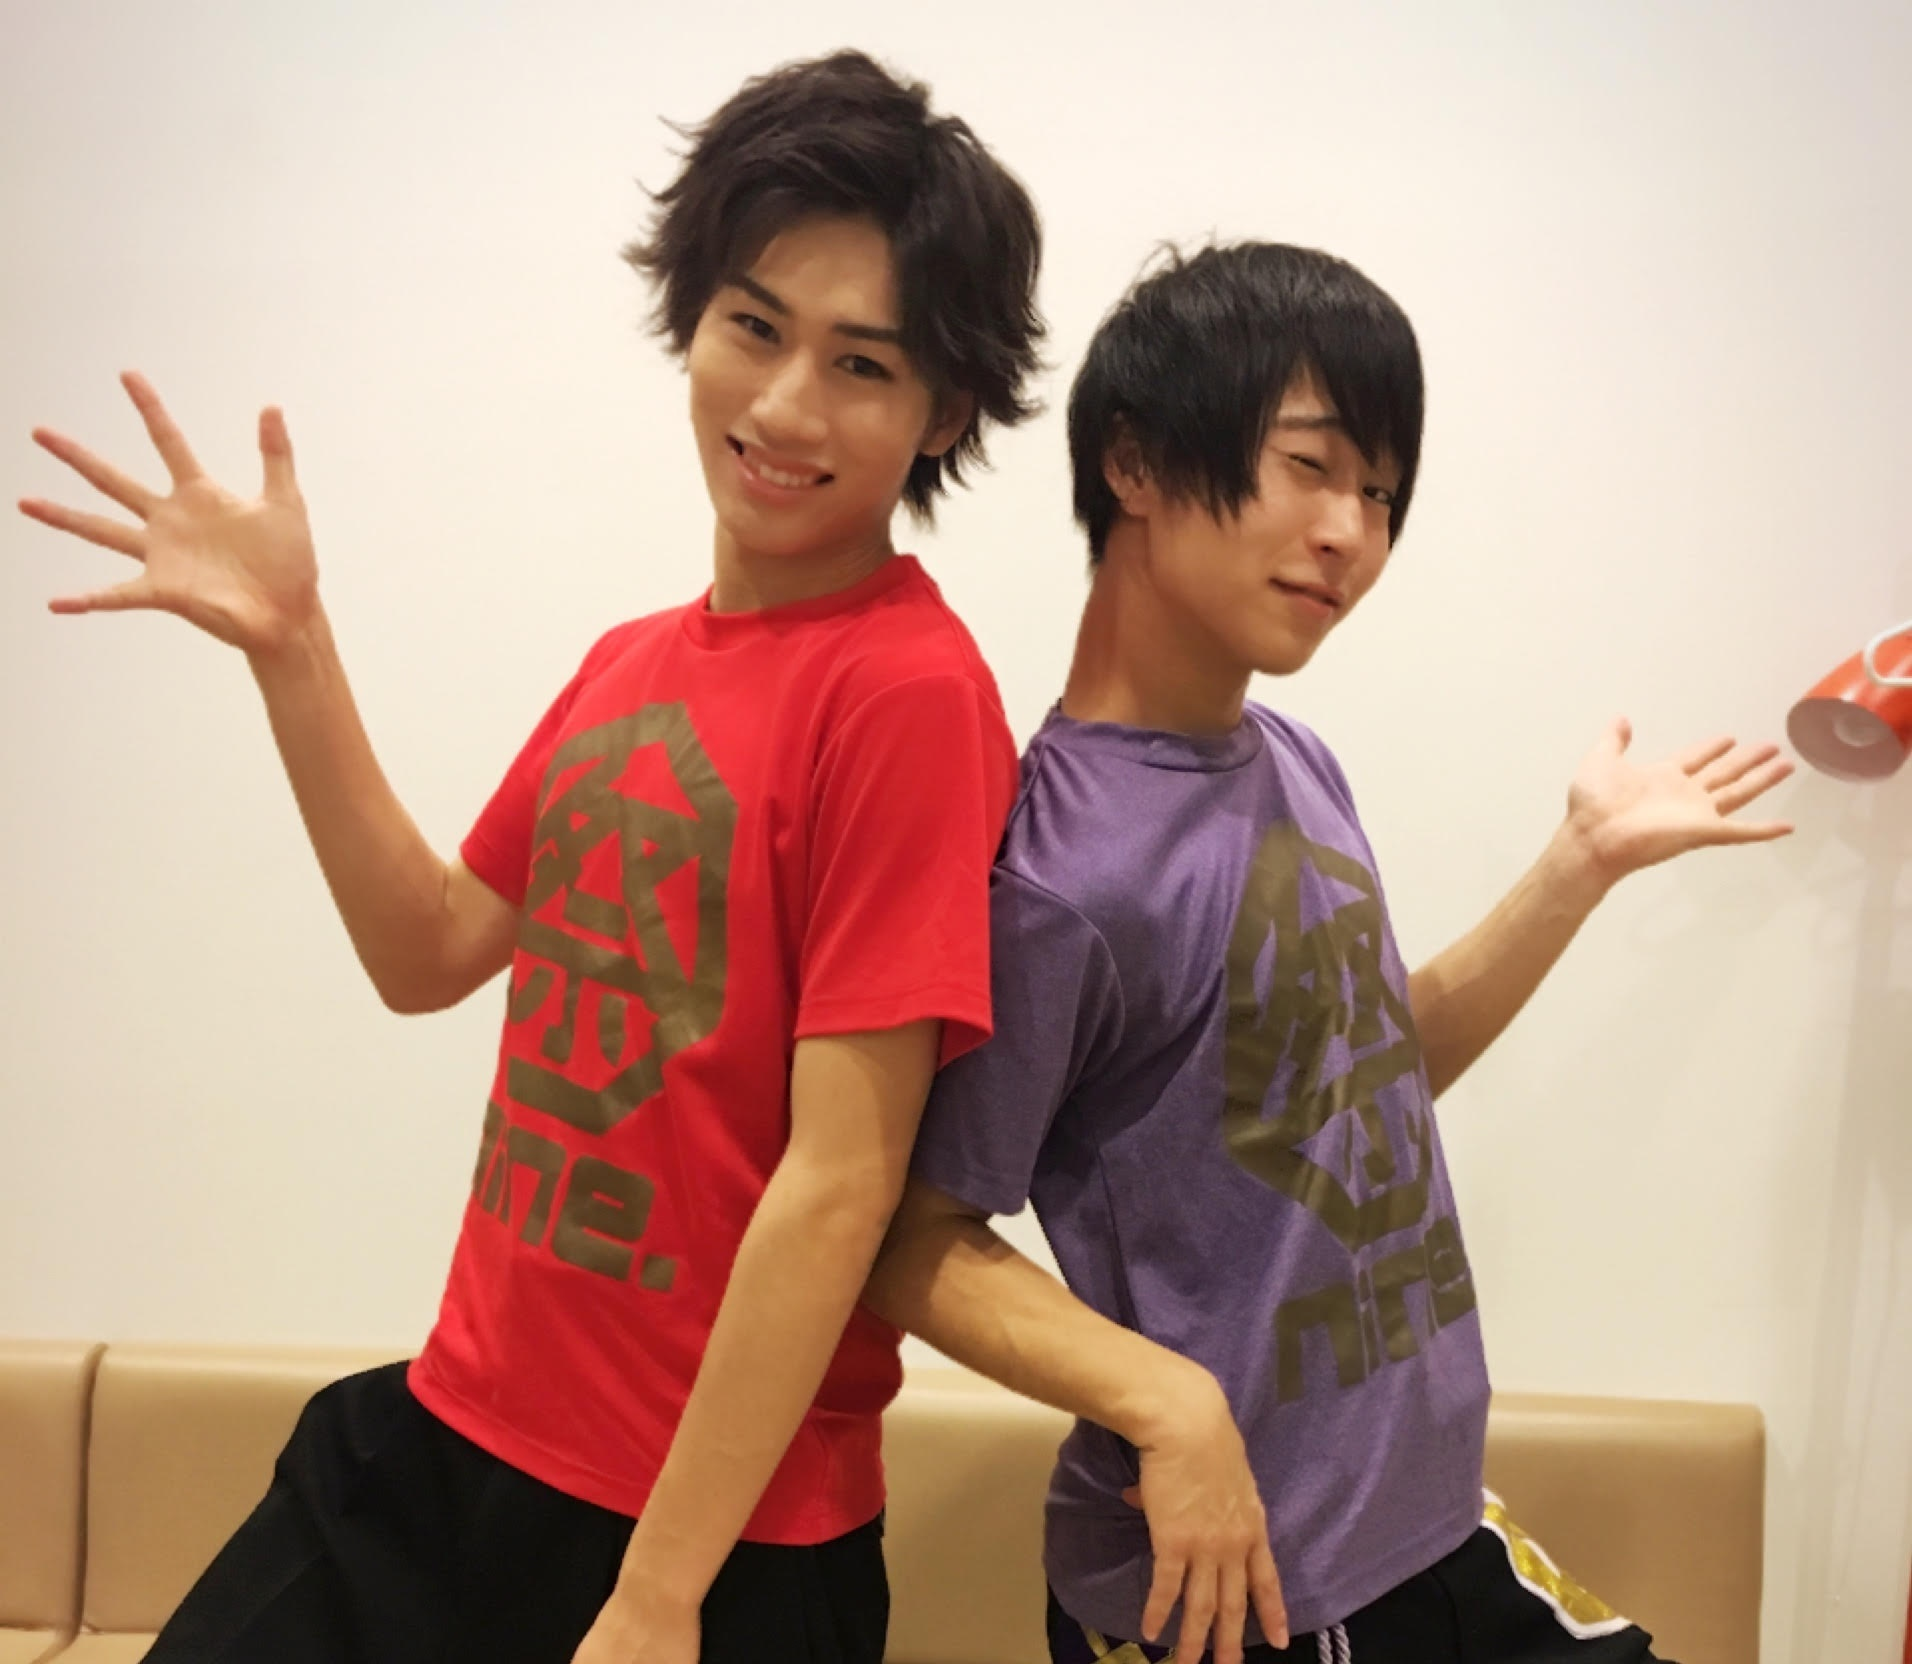face: (690, 207, 978, 557), (1112, 351, 1398, 675)
hand: (14, 358, 326, 645), (1139, 1398, 1289, 1664), (1565, 713, 1798, 869)
